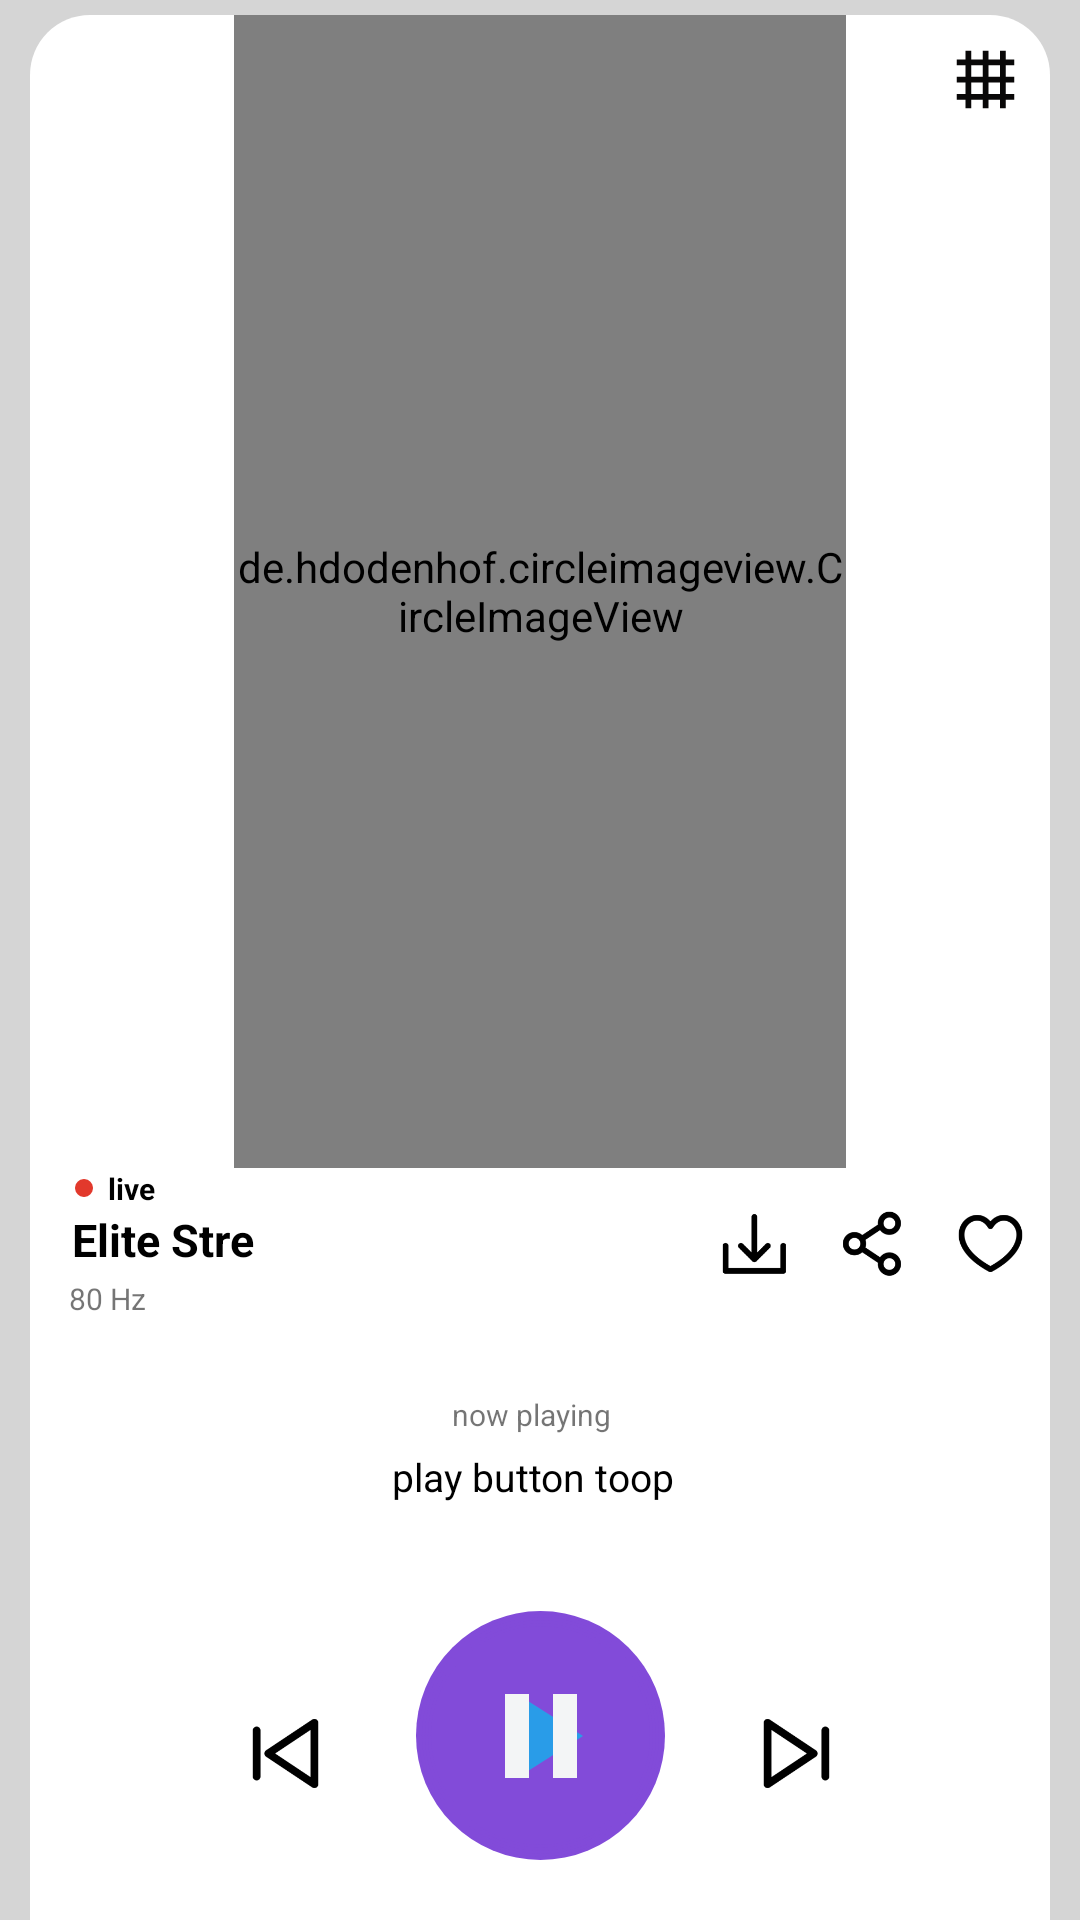

Screen size 1080 x 1920. Icon name, then its box in pixels as (x1, y1, x2, y2):
download: (722, 1214, 786, 1274)
grid: (956, 50, 1015, 109)
heart: (958, 1215, 1023, 1272)
share: (843, 1211, 901, 1276)
skip left: (252, 1719, 319, 1788)
skip right: (763, 1719, 830, 1788)
